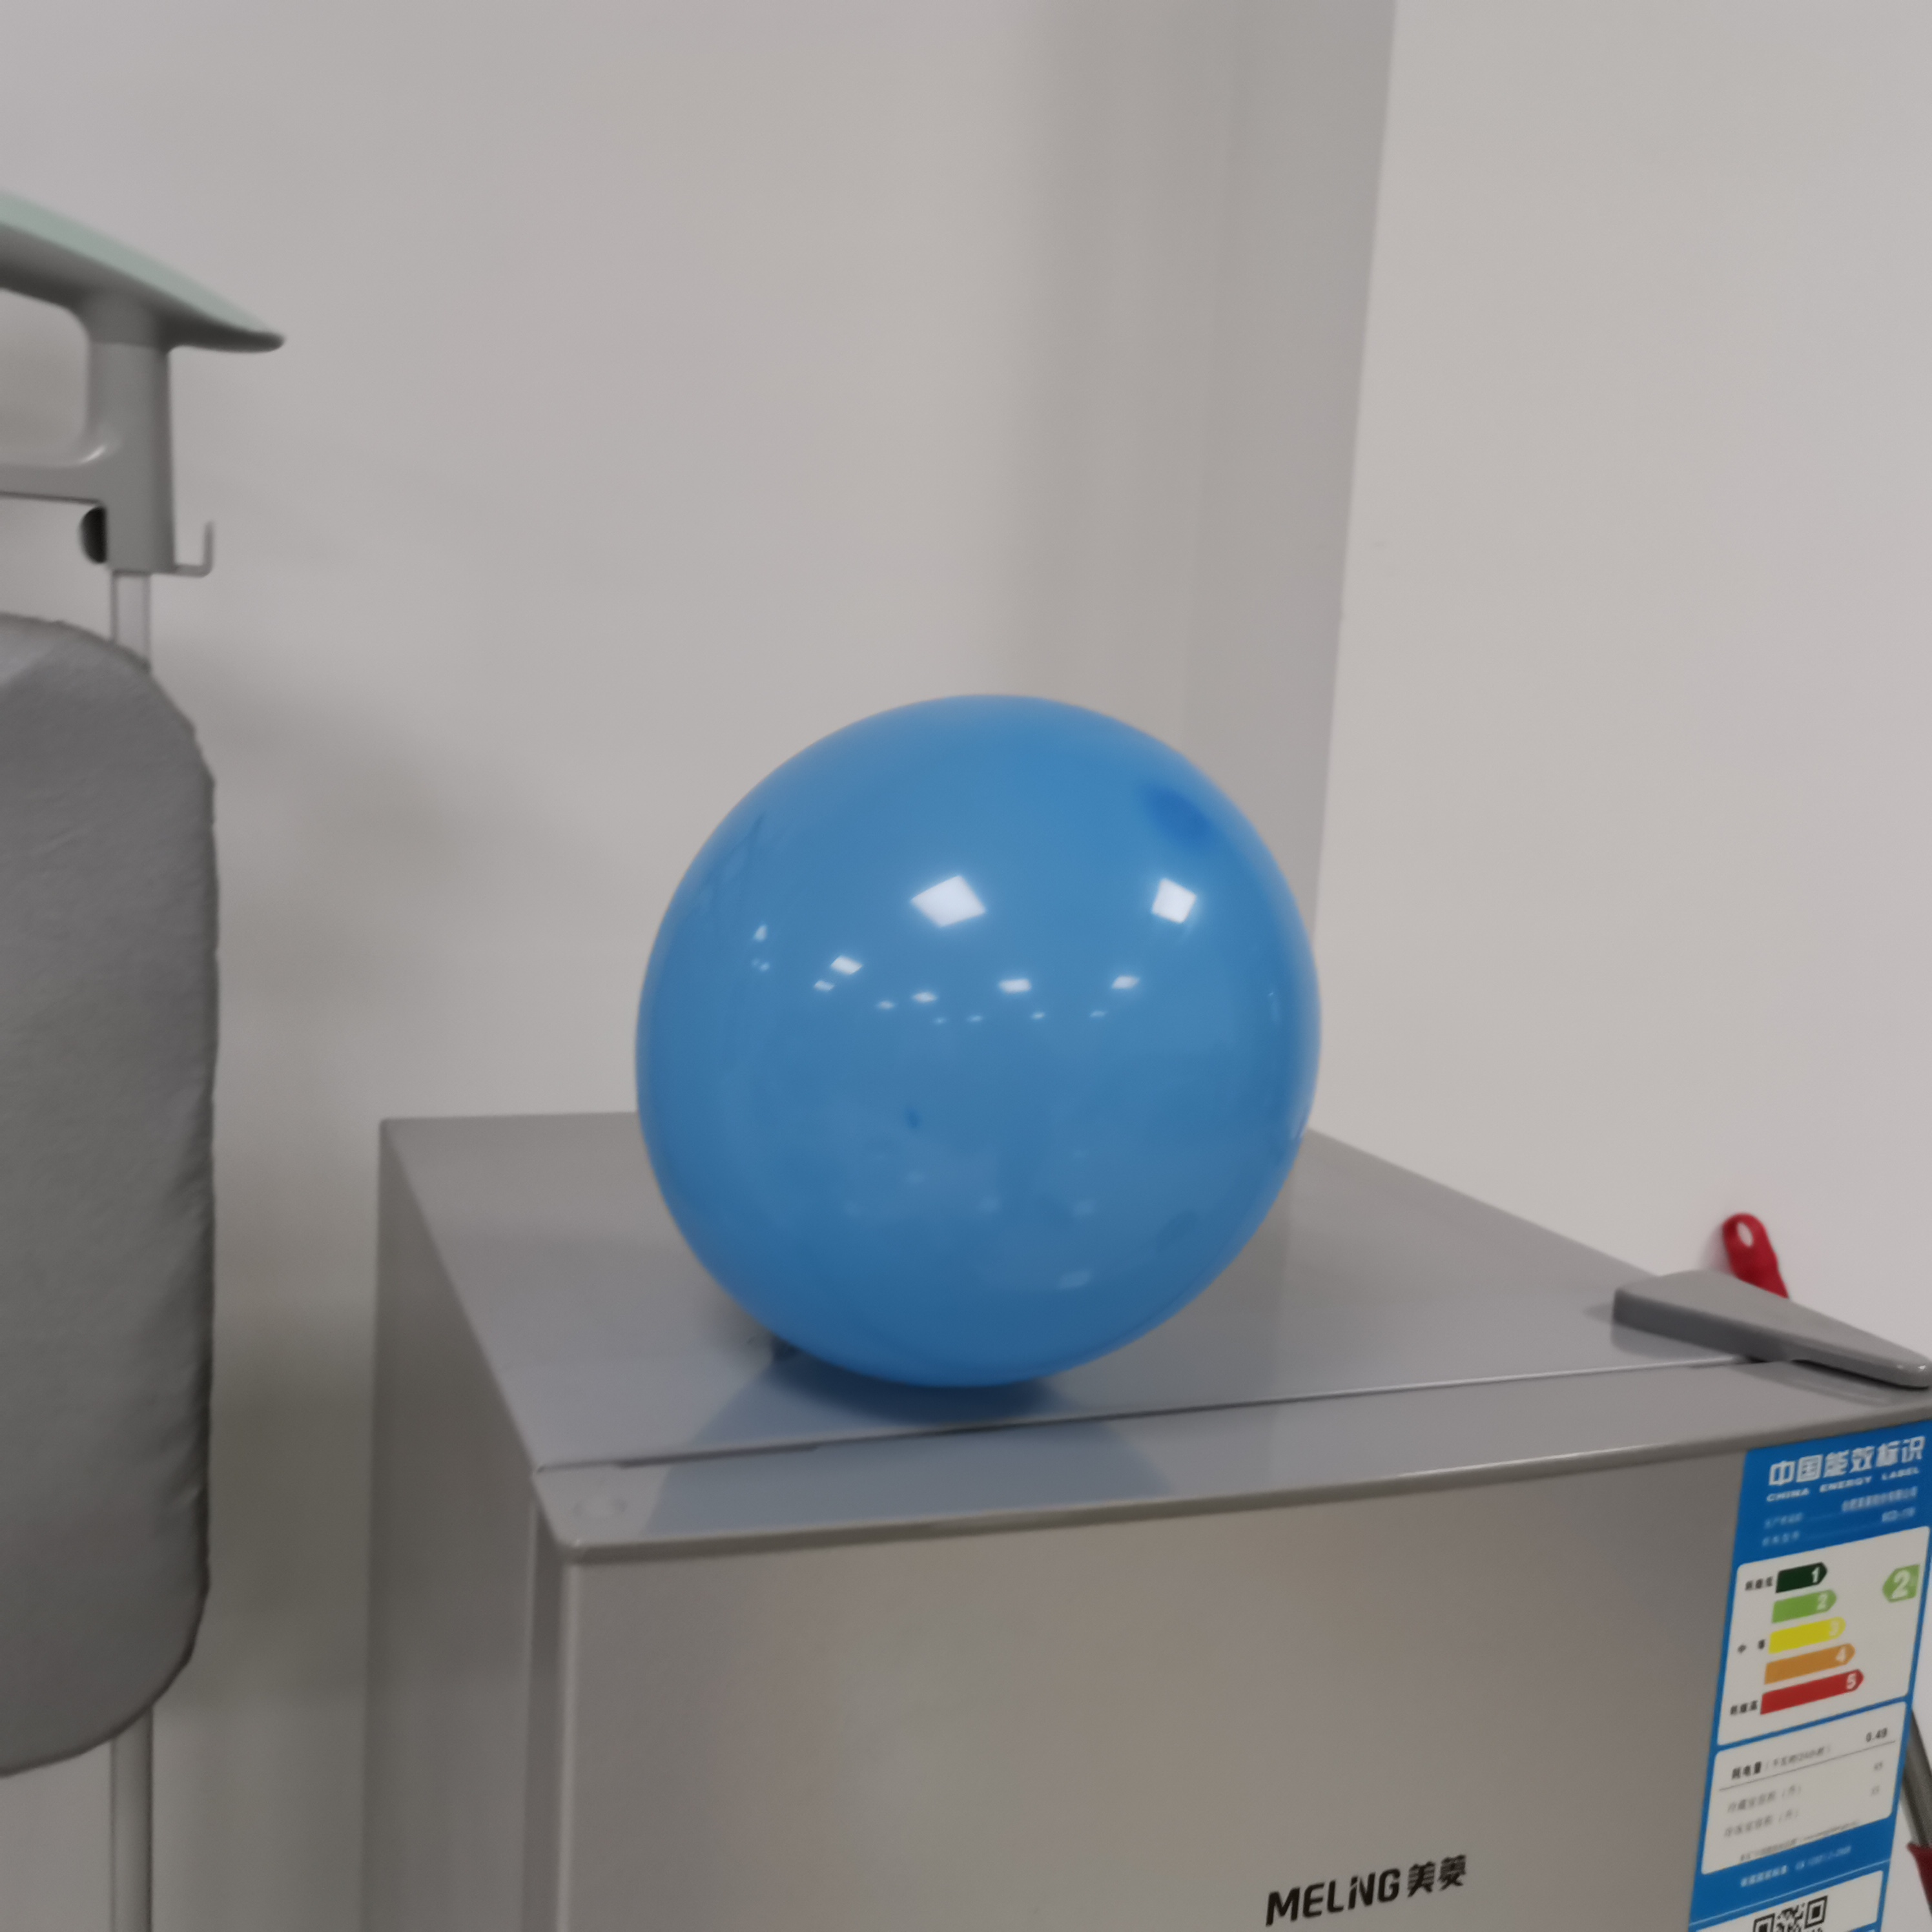balloon: (633, 699, 1329, 1392)
